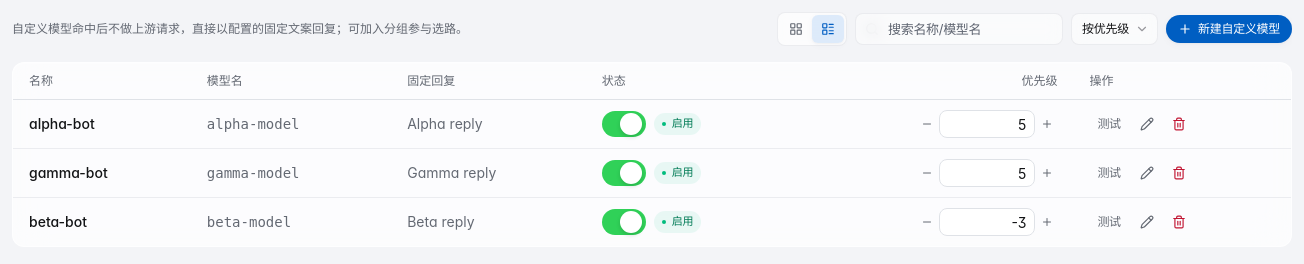
<CustomModelsPage /> 搜索与排序 › 搜索按名称过滤
Expected: the text "alpha-bot" is shown, [13,100,191,148]
Type "beta" into the field named "搜索自定义模型" at (959, 29), box [855,13,1063,45]
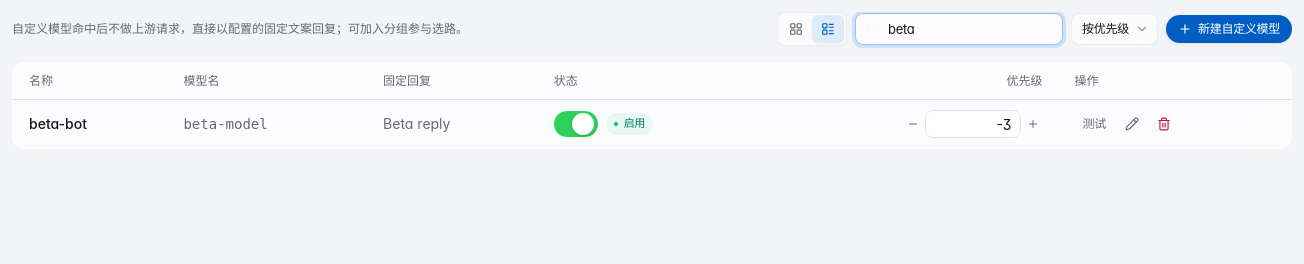
Expected: the text "beta-bot" is shown, [13,100,167,148]
Expected: the text "alpha-bot" is gone
Expected: the text "gamma-bot" is gone
